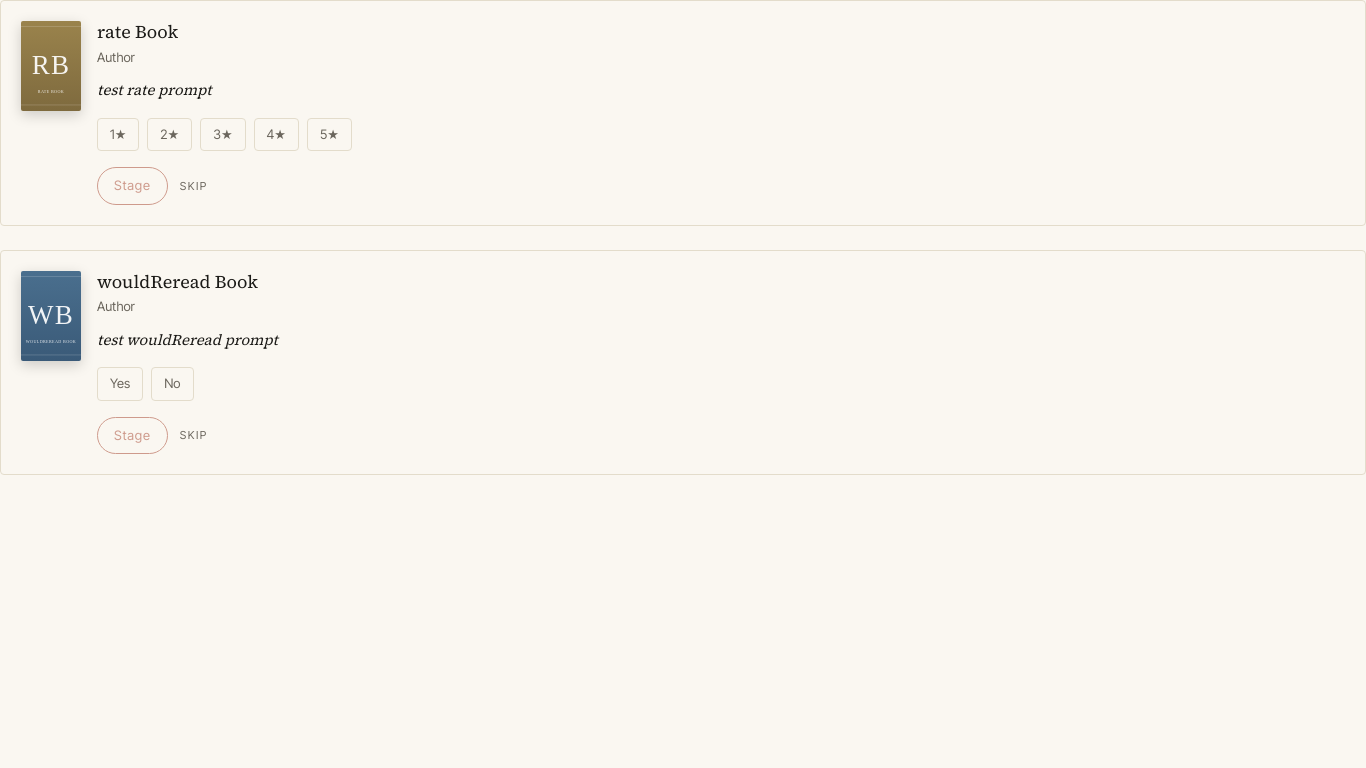
BackfillCards — staging UI › stages a card and shows the footer count
Click the button named "4 stars" at x=276, y=134, box [254,118,299,151]
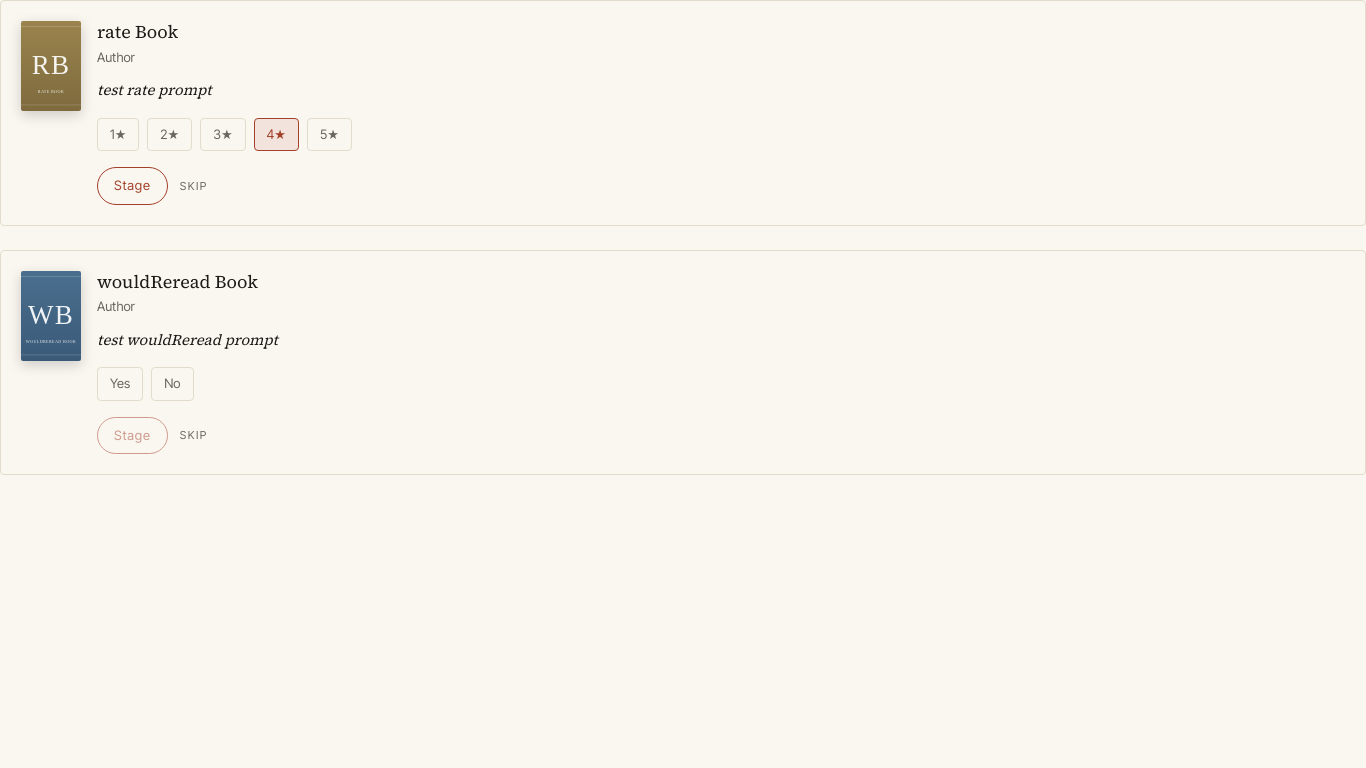
Click the button "Stage" below "test rate prompt" at x=132, y=186, box [97,167,168,204]
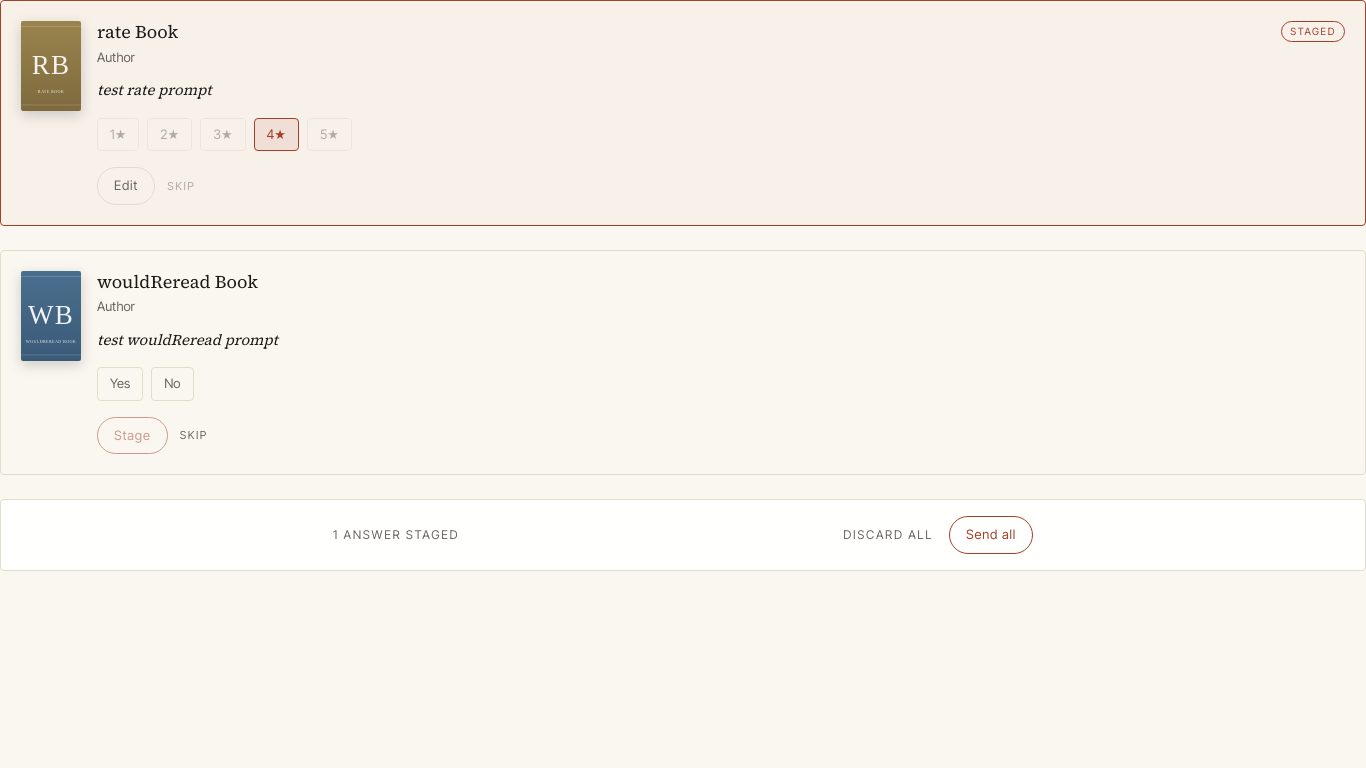
Now the text "staged" is shown, box [1281,21,1345,42]
Now the button "Edit" is shown, box [97,167,155,204]
Now the text "1 answer staged" is shown, box [333,526,459,544]
